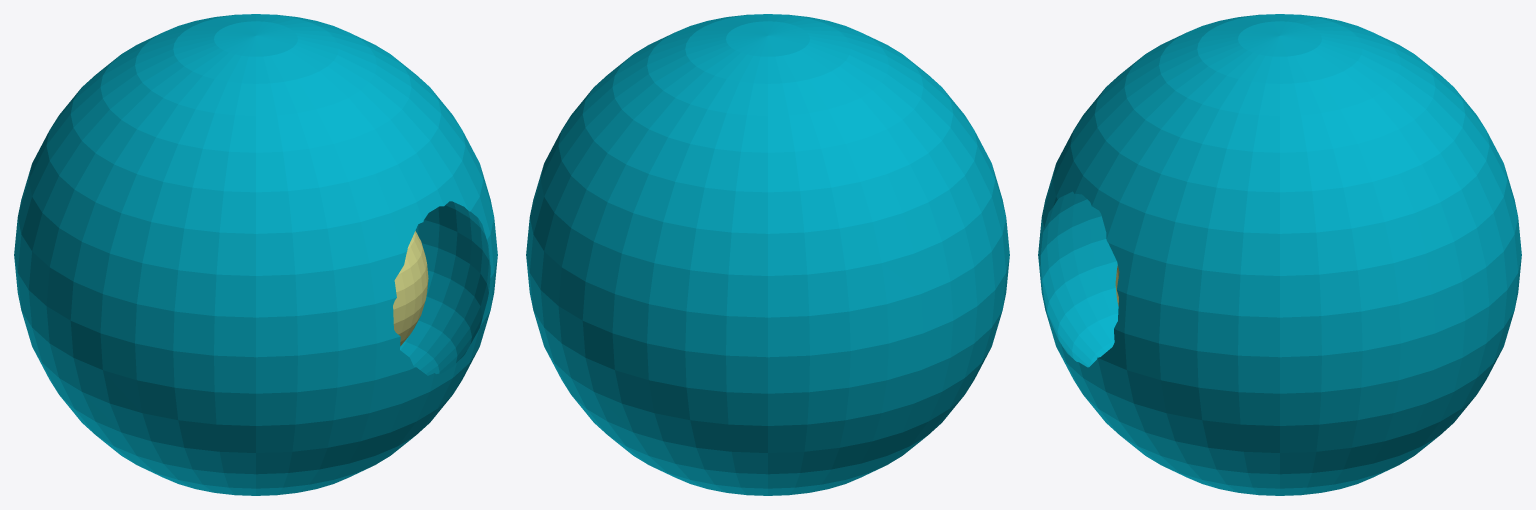
File: Spawner.glb
3 views of the same model, side by side, from view 1: azimuth 30°, elevation 25°; view 2: azimuth 150°, elevation 25°; view 3: azimuth 270°, elevation 25° (orthographic).
Visible parts, largest first — view 1: Mesh_Mesh_head_geo.001_lambert2SG.001; view 2: Mesh_Mesh_head_geo.001_lambert2SG.001; view 3: Mesh_Mesh_head_geo.001_lambert2SG.001.
Part boxes in pixels (x1,y1,x2,y2): Mesh_Mesh_head_geo.001_lambert2SG.001: (14, 14, 497, 495); Mesh_Mesh_head_geo.001_lambert2SG.001: (526, 14, 1009, 495); Mesh_Mesh_head_geo.001_lambert2SG.001: (1038, 14, 1521, 495).
Size of the model in its own units: 50 by 50 by 50.
